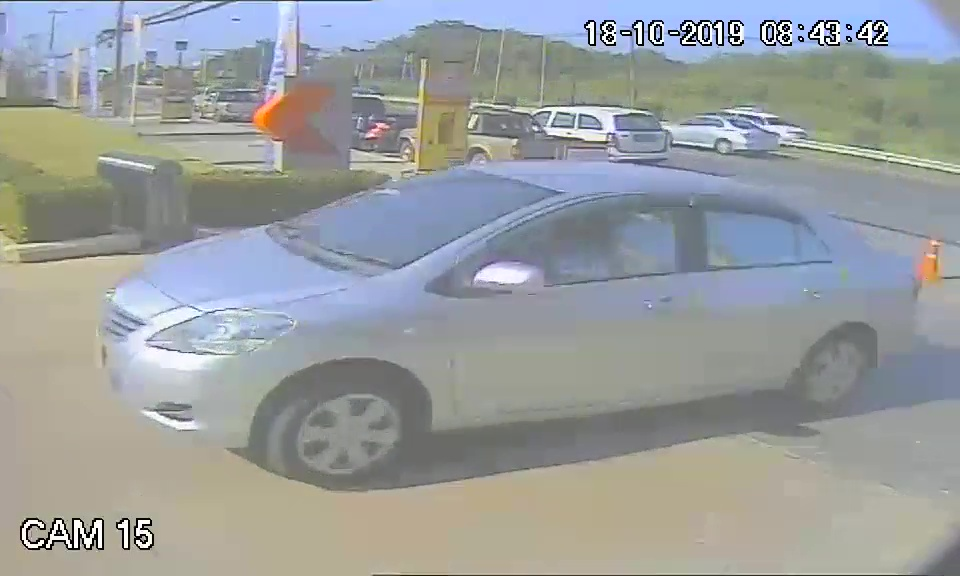sedan: (86, 154, 924, 480)
